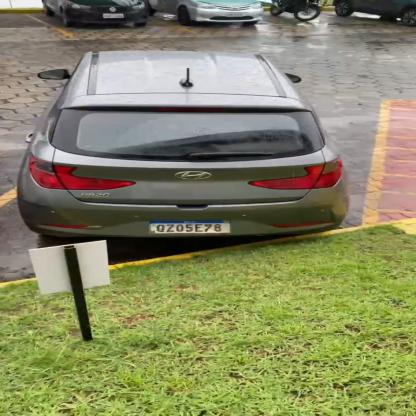Plate: (145, 217, 237, 237)
